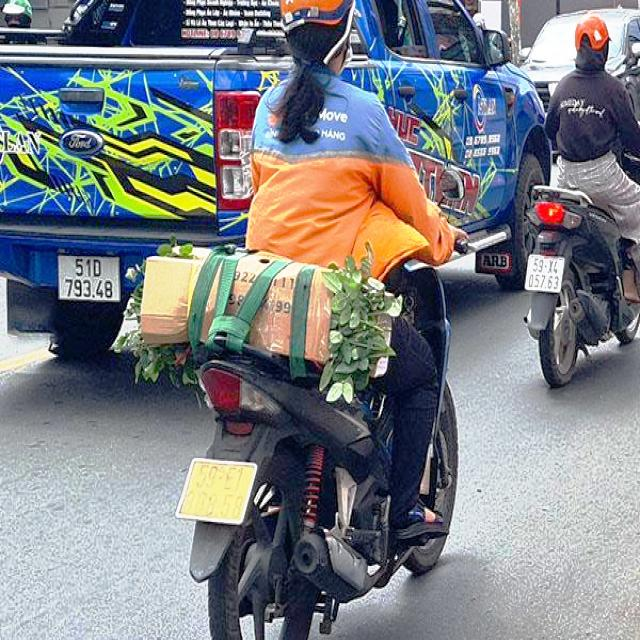license_plate: (179, 462, 255, 525), (60, 256, 120, 301), (526, 256, 564, 293)
